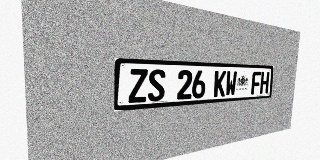2: (177, 70, 192, 100)
6: (192, 70, 206, 99)
F: (251, 71, 261, 95)
H: (260, 72, 269, 94)
K: (213, 71, 226, 97)
S: (148, 69, 166, 102)
W: (225, 71, 237, 96)
Z: (128, 69, 148, 103)
